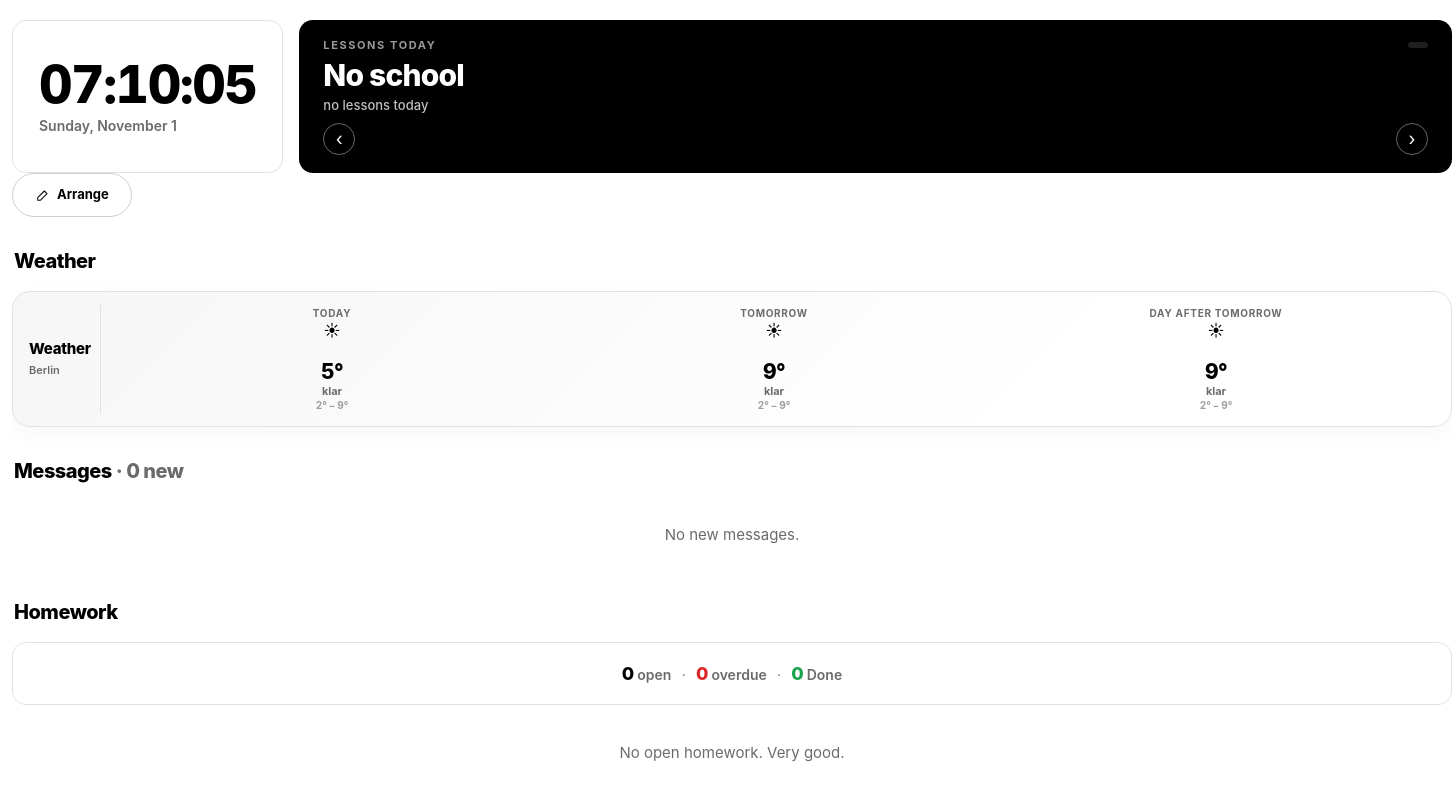
Scenario: OverviewView – Layout-Editor › zeigt im Bearbeitungsmodus auf jedem Abschnitt eine Bedienleiste
Expected: the text "Berlin" is shown, [29,363,60,377]
Click the button "Arrange" at (72, 194), box [12,172,132,216]
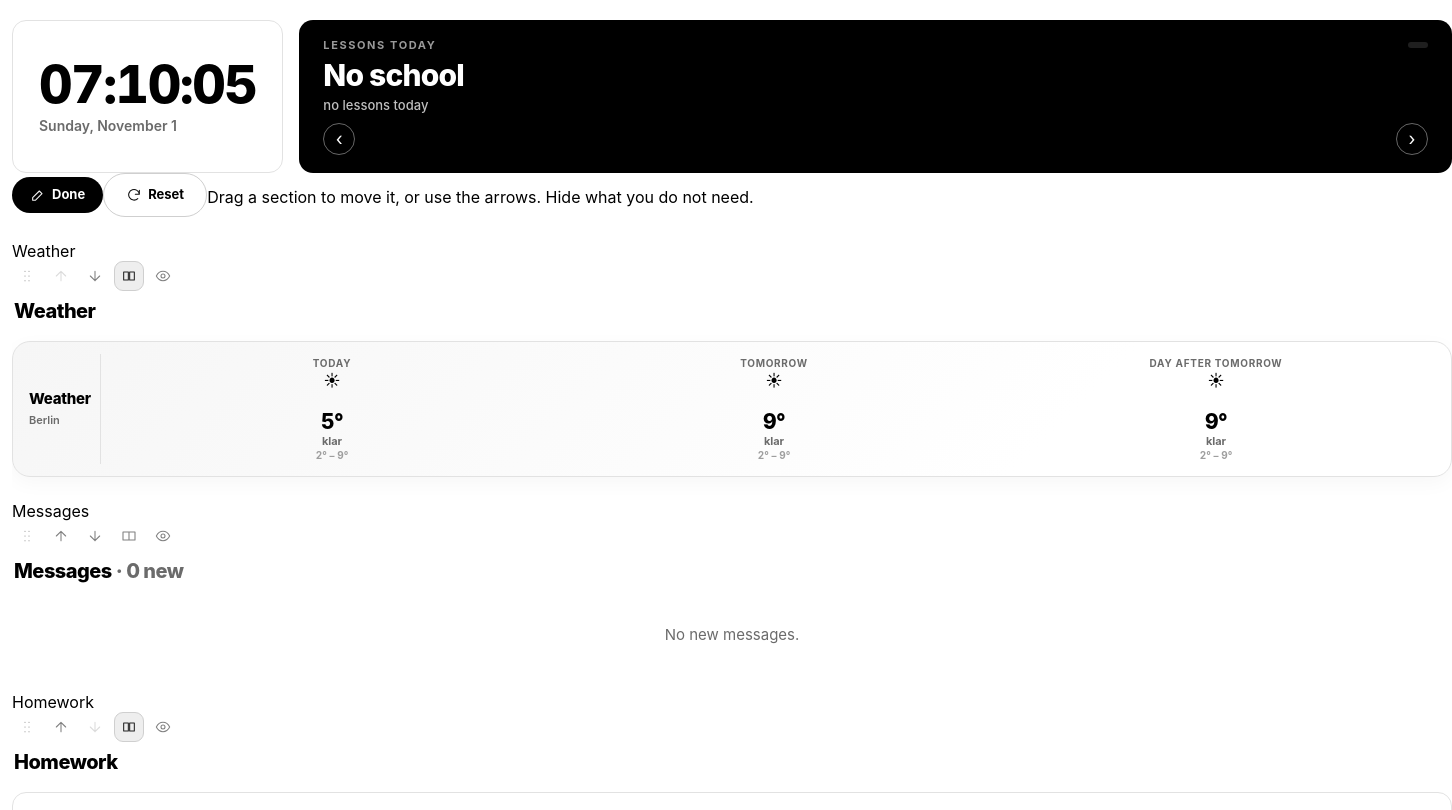
Expected: the number of elements with class "sec-bar" is 3, [12,240,178,290]; [12,500,178,550]; [12,692,178,742]
